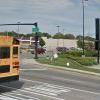Bus: (0, 30, 22, 87)
